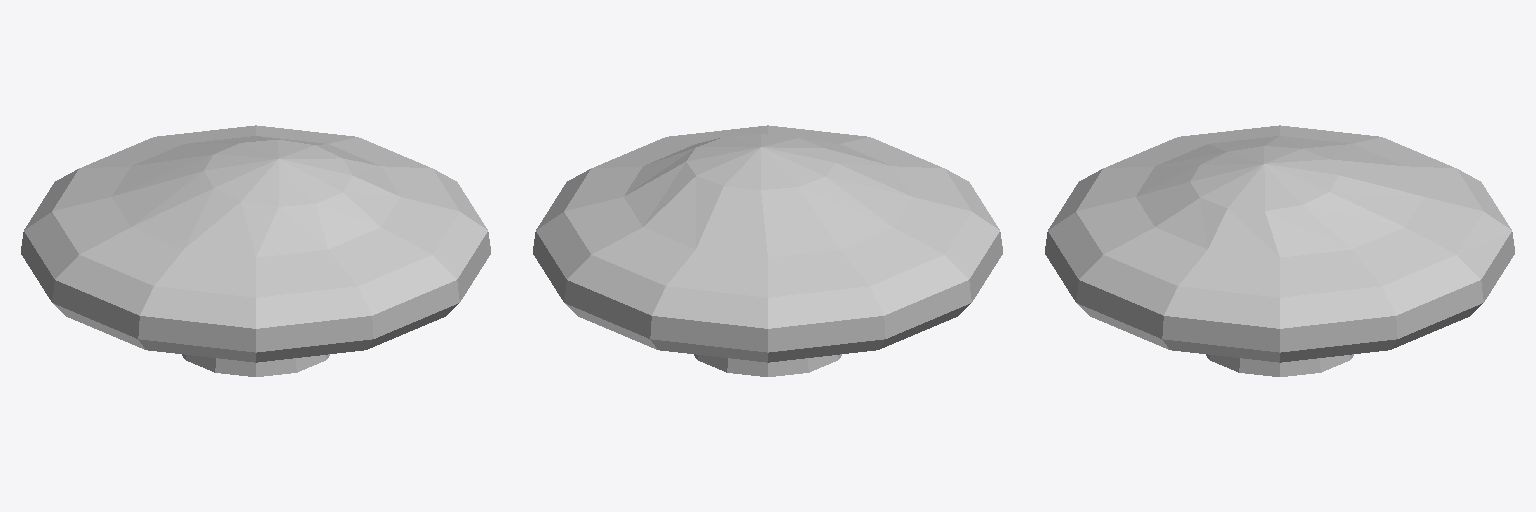
The model's file is Mushroom_Brown.obj.
3 views of the same model, side by side, from view 1: azimuth 30°, elevation 25°; view 2: azimuth 150°, elevation 25°; view 3: azimuth 270°, elevation 25° (orthographic).
Visible parts, largest first — view 1: Sphere.017_Sphere.024; view 2: Sphere.017_Sphere.024; view 3: Sphere.017_Sphere.024.
Boxes of the visible parts, box(x1,y1,x2,y2) form: Sphere.017_Sphere.024: box(21, 125, 490, 376); Sphere.017_Sphere.024: box(533, 125, 1002, 376); Sphere.017_Sphere.024: box(1045, 125, 1514, 376).
Bounding box in the file's own units: 0.3489 × 0.1626 × 0.3489.